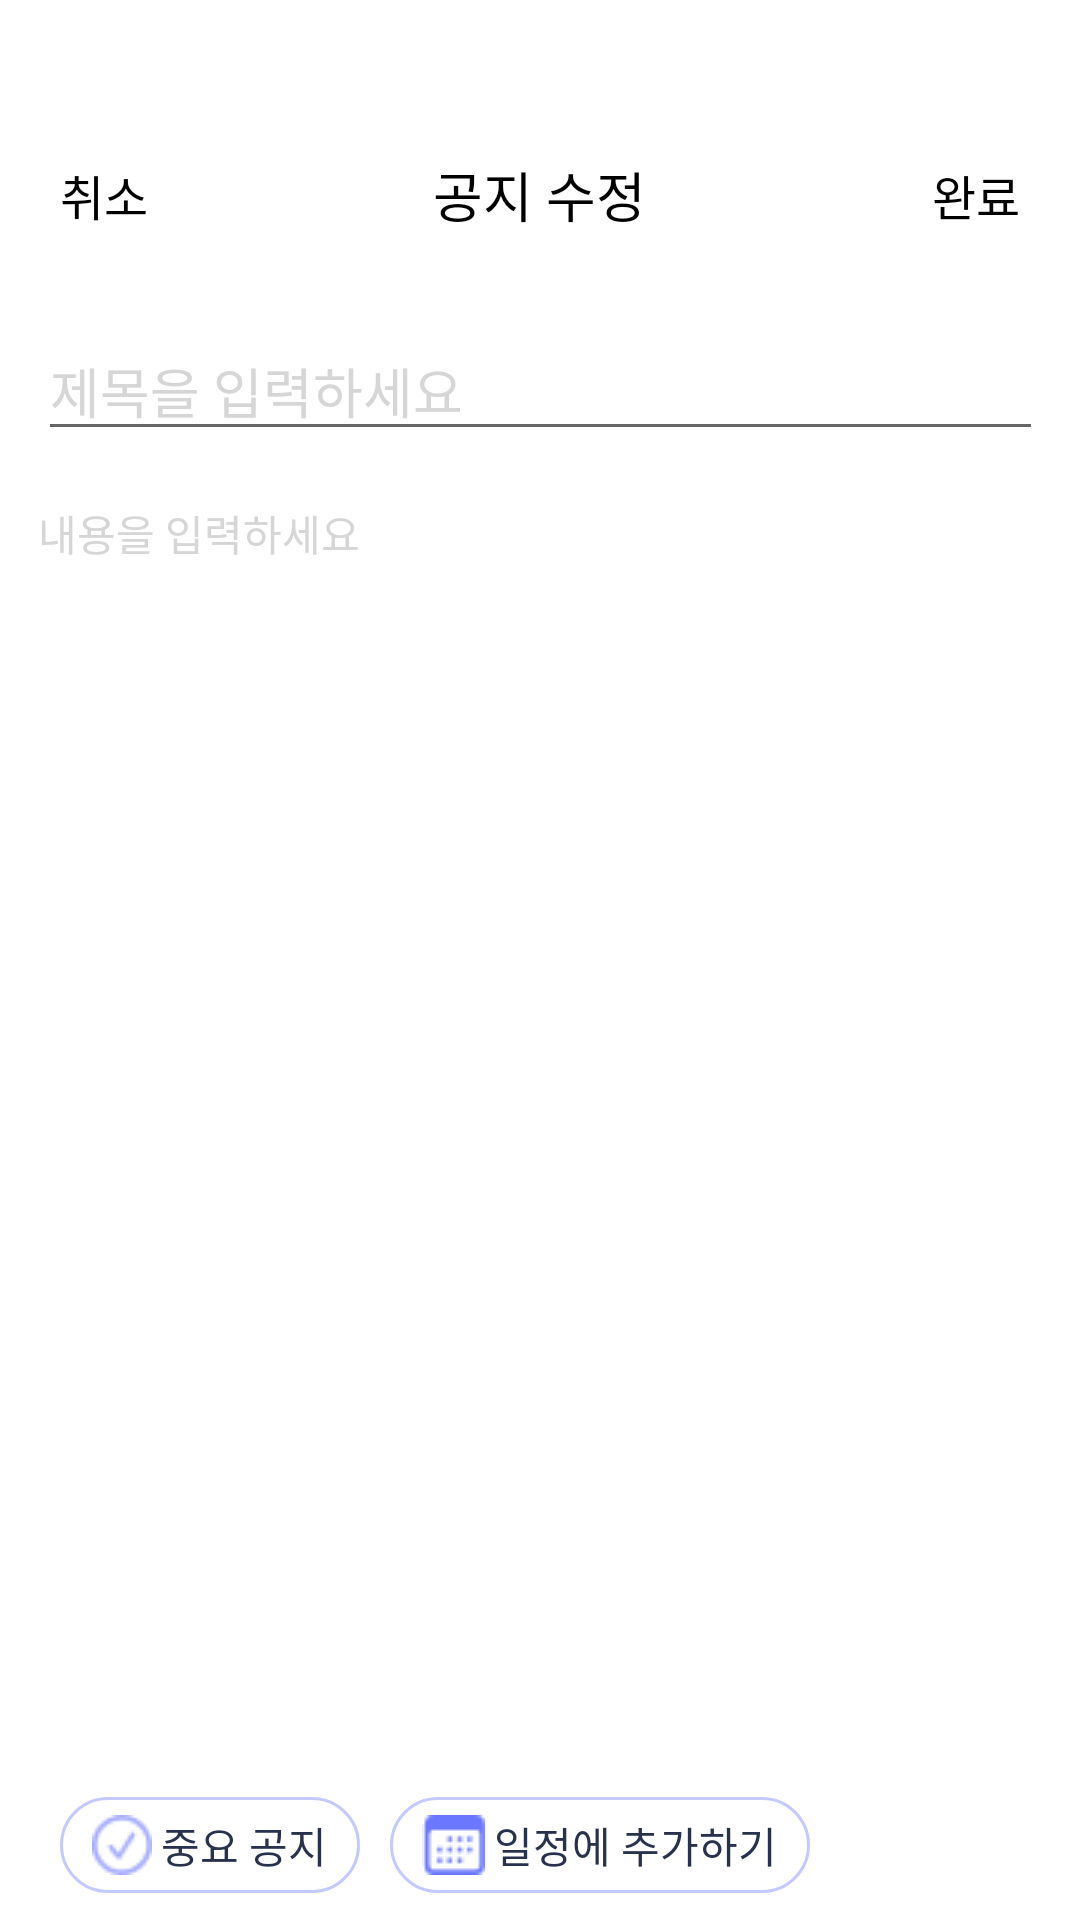

Screen size 1080 × 1920. Icon name, then its box in pixels as (x1,y1,x2,y2):
noticecheck: (92,1815,152,1875)
noticesche: (424,1815,485,1875)
